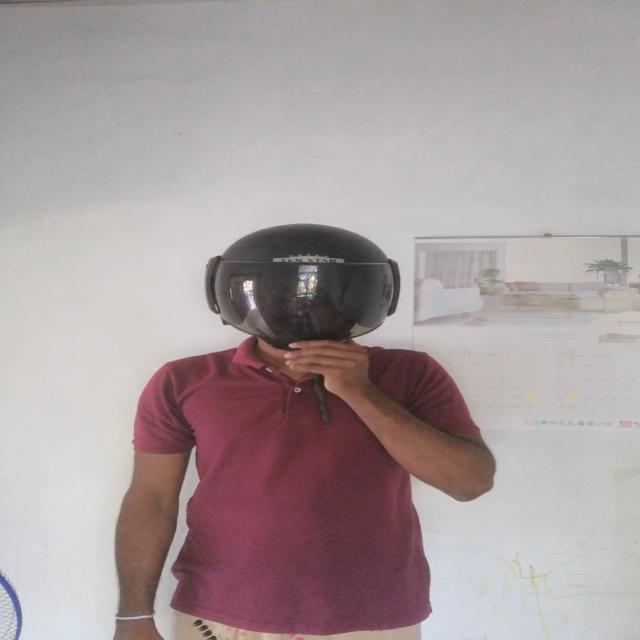Helmet_Wearer: (188, 213, 422, 379)
